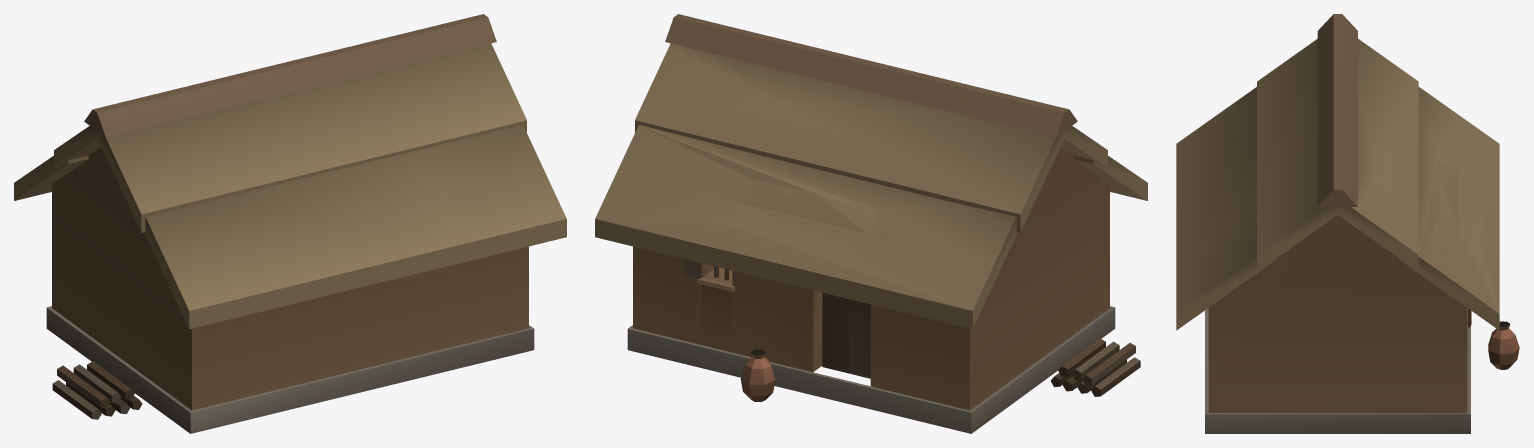
Rendered from casa_rancho_a_lod.glb.
3 views of the same model, side by side, from view 1: azimuth 30°, elevation 25°; view 2: azimuth 150°, elevation 25°; view 3: azimuth 270°, elevation 25° (orthographic). The views are drawn at different scales.
Visible parts, largest first — view 1: casa_rancho_a; view 2: casa_rancho_a; view 3: casa_rancho_a.
Boxes of the visible parts, bbox=[...] form: casa_rancho_a: bbox=[14, 14, 566, 433]; casa_rancho_a: bbox=[595, 14, 1147, 433]; casa_rancho_a: bbox=[1176, 14, 1519, 433].
Bounding box in the file's own units: 6.36 × 3.91 × 4.78.
